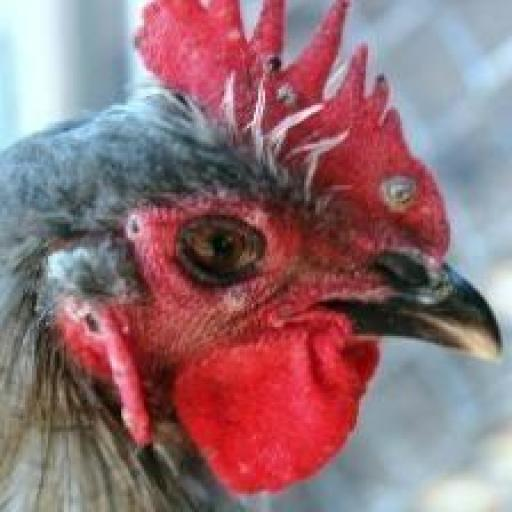disease: (163, 135, 296, 331), (52, 284, 143, 399), (239, 32, 327, 132), (353, 141, 429, 229), (350, 25, 394, 110), (107, 204, 163, 253)
